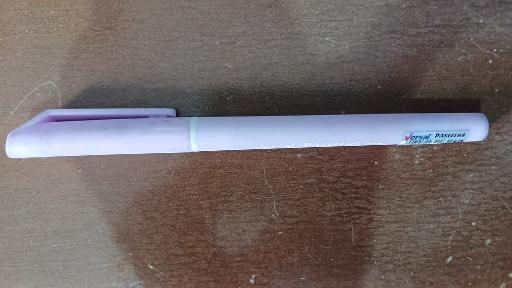pen: (5, 109, 498, 158)
